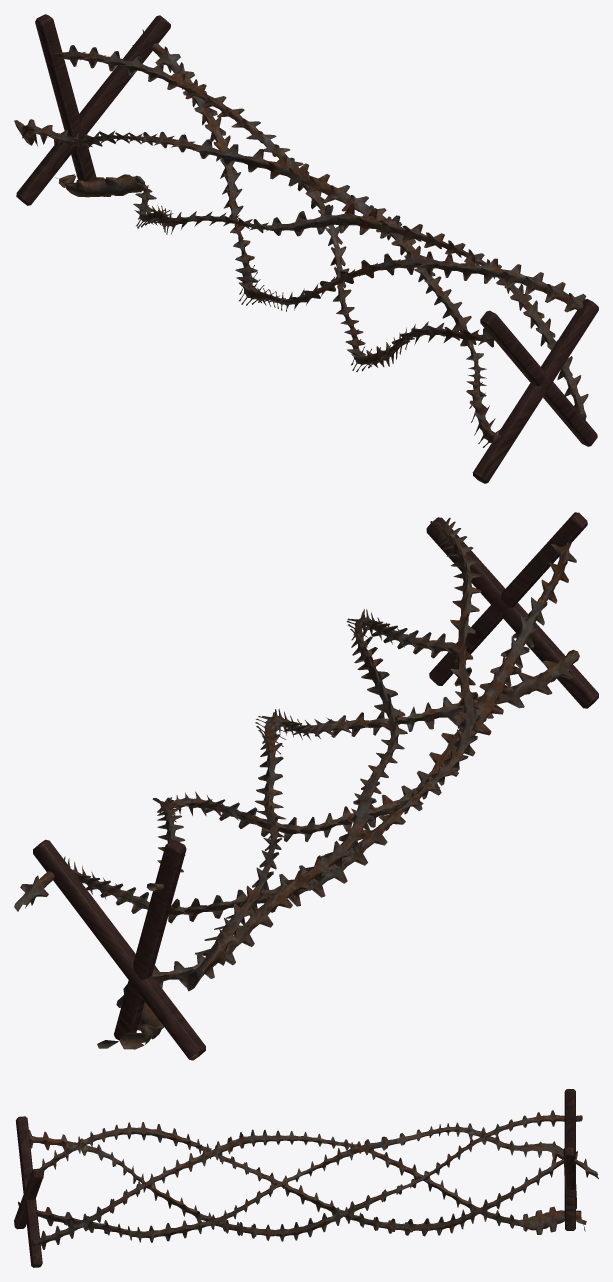
The picture shows the model from 3 angles, top to bottom: view 1: azimuth 30°, elevation 25°; view 2: azimuth 150°, elevation 25°; view 3: azimuth 270°, elevation 25°; orthographic projection. The views are drawn at different scales.
Parts seen in each view (by area): view 1: barbwire2; view 2: barbwire2; view 3: barbwire2.
Boxes of the visible parts, <box> form: barbwire2: <box>14,14,598,483</box>; barbwire2: <box>14,512,598,1060</box>; barbwire2: <box>14,1089,598,1267</box>.
Bounding box in the file's own units: 1.06 × 0.9126 × 3.82.
